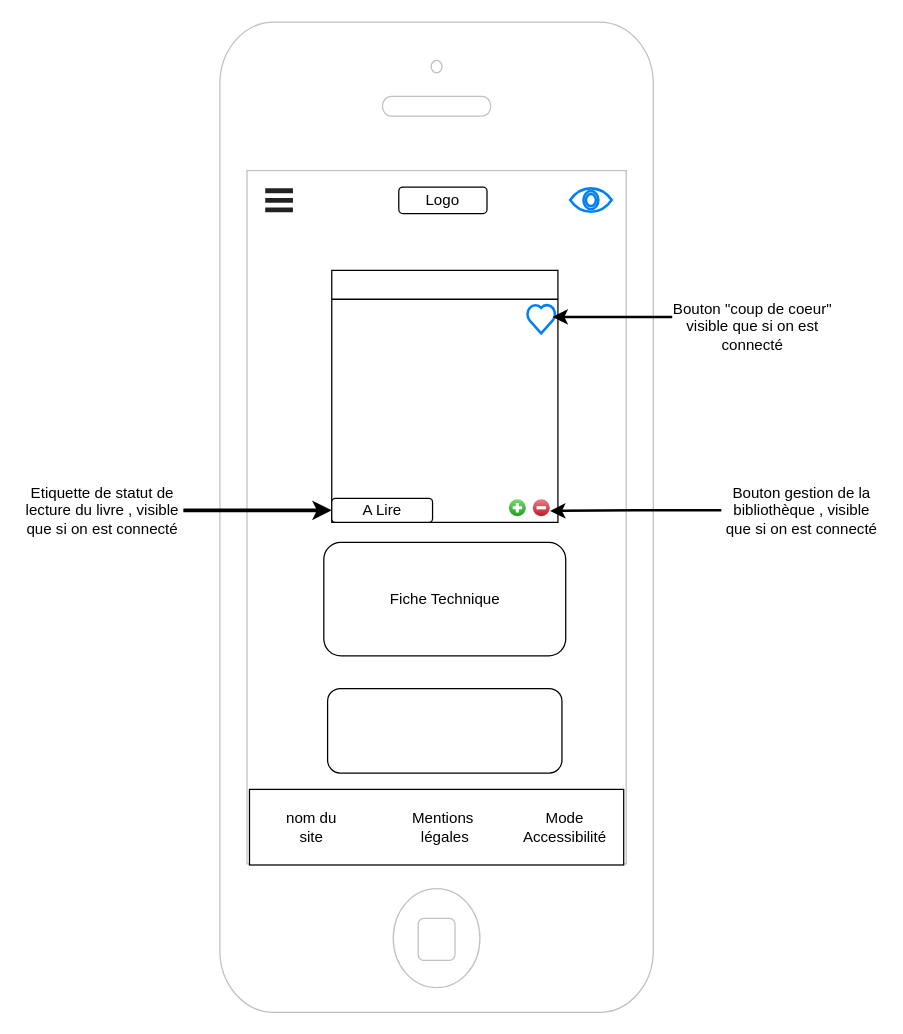
Image size: 903x1034. Some labels were removed from this diagram. Here are the shapes that lost their labels. From the top down, the box of each, then its label:
(330, 269, 558, 522): Livre 1
(326, 687, 562, 773): Résumé du Livre
